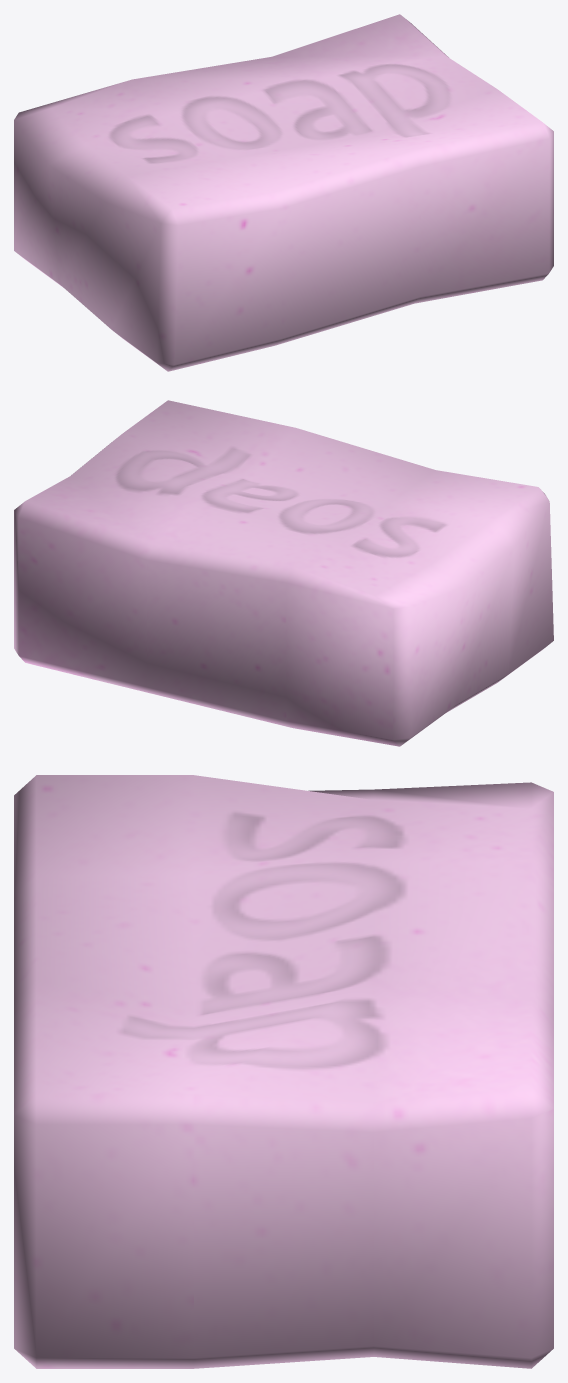
The model's file is soap.FBX.
3 views of the same model, one above another, from view 1: azimuth 30°, elevation 25°; view 2: azimuth 150°, elevation 25°; view 3: azimuth 270°, elevation 25° (orthographic). The views are drawn at different scales.
Parts seen in each view (by area): view 1: Box001; view 2: Box001; view 3: Box001.
Part boxes in pixels (<box>): Box001: <box>14,14,553,371</box>; Box001: <box>14,400,553,746</box>; Box001: <box>14,775,553,1368</box>.
Size of the model in its own units: 1.57 by 0.5938 by 1.04.
